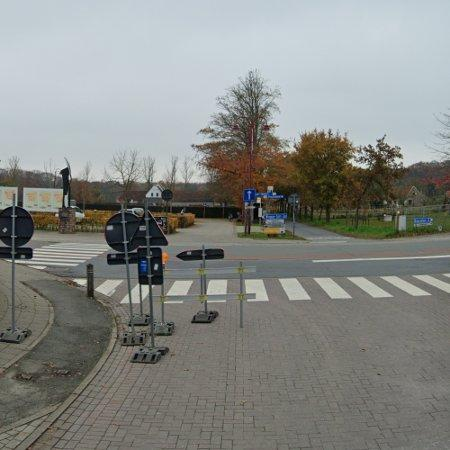crosswalks: (74, 273, 450, 304)
